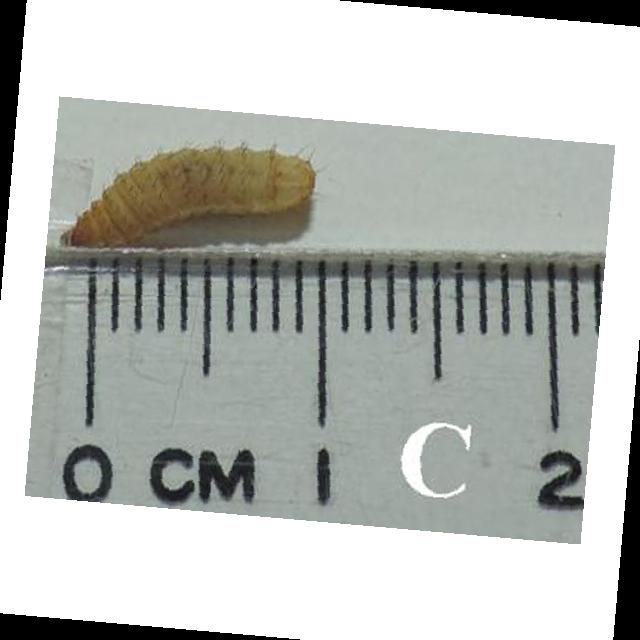Maggot: (61, 145, 324, 257)
